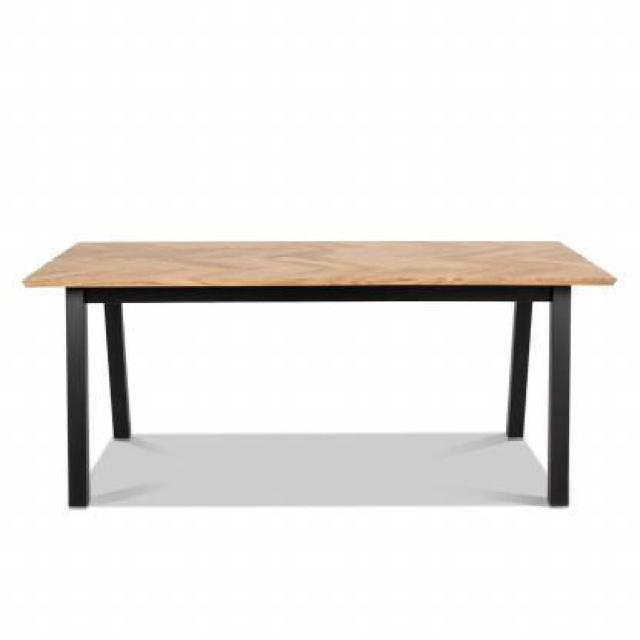tables: (21, 238, 617, 508)
